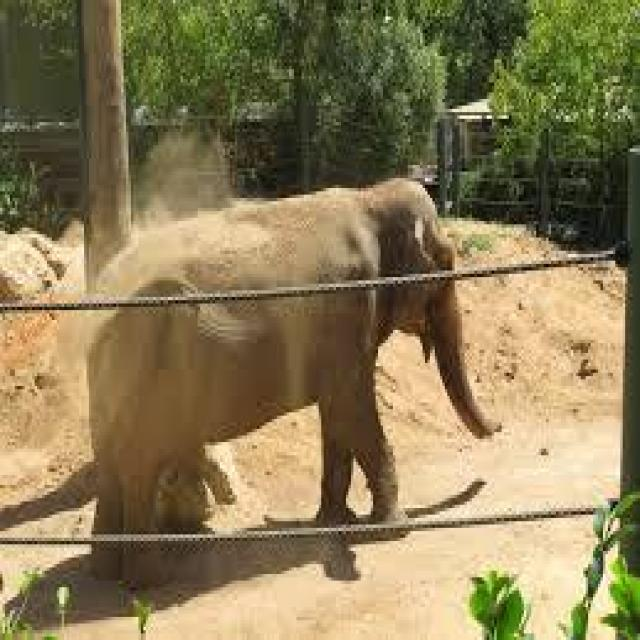Elephant: (81, 175, 502, 554)
